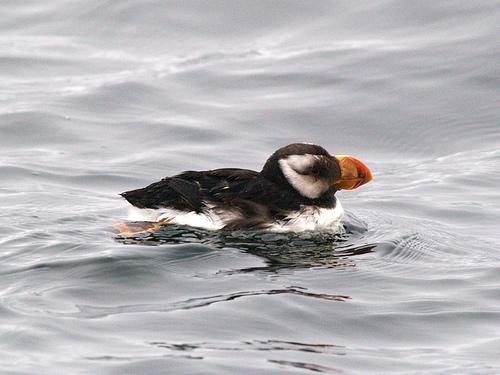bird: (112, 132, 381, 253)
